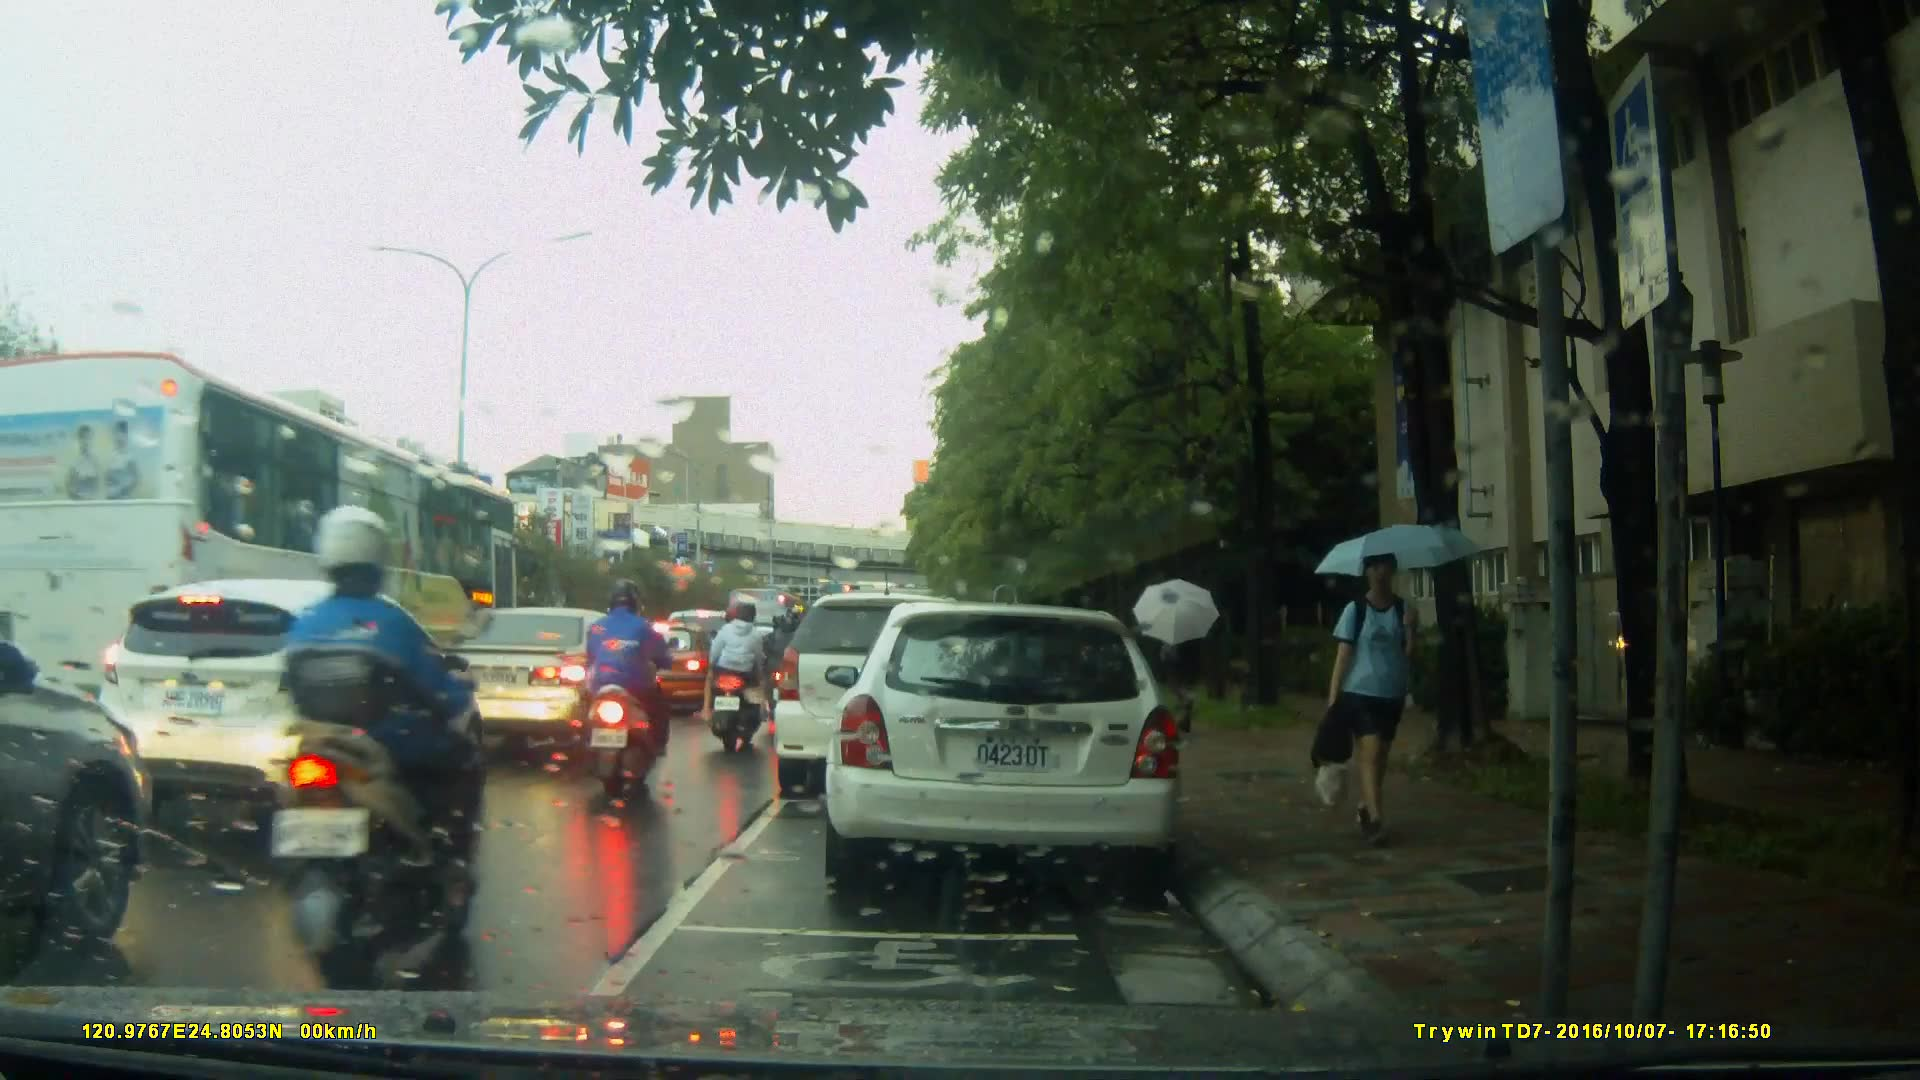pedestrian: (1316, 543, 1455, 839), (1156, 611, 1208, 736)
rider: (256, 481, 482, 997), (587, 581, 673, 792), (713, 595, 781, 762), (771, 609, 807, 725)
vehicle: (2, 347, 531, 772), (835, 594, 1194, 898), (90, 576, 485, 846), (776, 590, 1026, 784), (411, 604, 659, 755), (610, 619, 728, 719)
